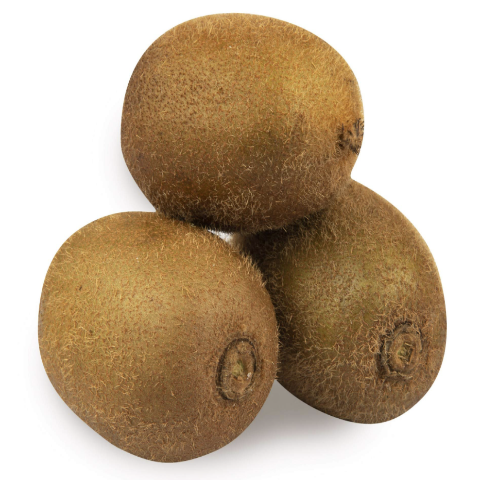kiwi: (23, 193, 303, 471), (97, 0, 368, 239), (220, 180, 437, 452)
